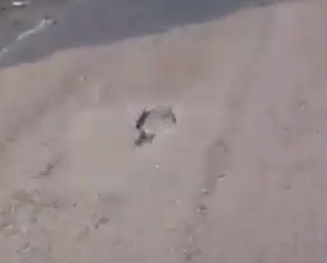Berlubang: (1, 190, 125, 235), (124, 96, 191, 151), (194, 134, 228, 220), (25, 149, 74, 187)
